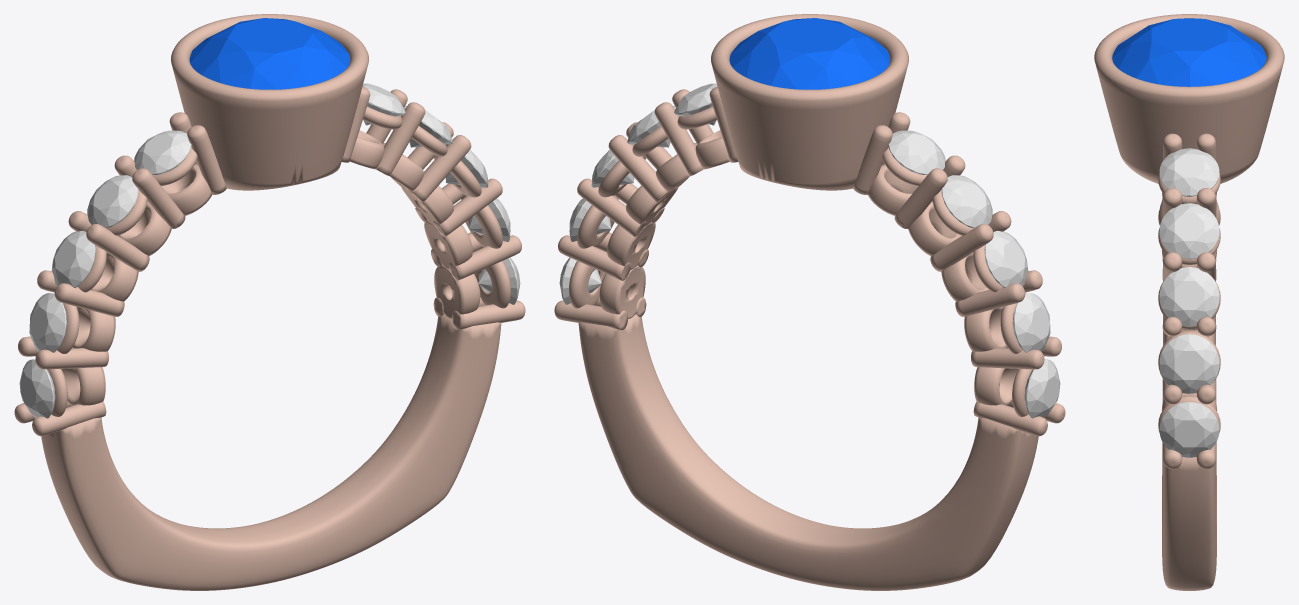
Rendered from bluesapphire-round-rosegold-bezelset-europeanshank-5stone.glb.
3 views of the same model, side by side, from view 1: azimuth 30°, elevation 25°; view 2: azimuth 150°, elevation 25°; view 3: azimuth 270°, elevation 25° (orthographic). The views are drawn at different scales.
Parts seen in each view (by area): view 1: metal, stone, side.006, side.007, side.005, side.008, side.009, side, side.001, side.004, side.003; view 2: metal, stone, side.006, side.007, side.005, side.008, side.009, side, side.001, side.004, side.003; view 3: metal, stone, side.003, side.002, side.001, side.004, side.
Part boxes in pixels (x1=…): metal: x1=14, y1=14, x2=525, y2=590; stone: x1=189, y1=18, x2=350, y2=89; side.006: x1=87, y1=175, x2=138, y2=227; side.007: x1=51, y1=230, x2=95, y2=287; side.005: x1=134, y1=130, x2=191, y2=174; side.008: x1=29, y1=293, x2=67, y2=352; side.009: x1=19, y1=359, x2=55, y2=418; side: x1=362, y1=83, x2=405, y2=125; side.001: x1=403, y1=106, x2=452, y2=147; side.004: x1=478, y1=257, x2=520, y2=304; side.003: x1=469, y1=198, x2=510, y2=241; metal: x1=554, y1=14, x2=1065, y2=590; stone: x1=729, y1=18, x2=890, y2=89; side.006: x1=941, y1=175, x2=992, y2=227; side.007: x1=984, y1=230, x2=1028, y2=287; side.005: x1=888, y1=130, x2=945, y2=174; side.008: x1=1012, y1=293, x2=1050, y2=352; side.009: x1=1024, y1=359, x2=1060, y2=418; side: x1=674, y1=83, x2=717, y2=125; side.001: x1=627, y1=106, x2=676, y2=147; side.004: x1=559, y1=257, x2=601, y2=304; side.003: x1=569, y1=198, x2=610, y2=241; metal: x1=1094, y1=14, x2=1284, y2=590; stone: x1=1112, y1=18, x2=1266, y2=86; side.003: x1=1159, y1=334, x2=1219, y2=393; side.002: x1=1159, y1=267, x2=1219, y2=326; side.001: x1=1159, y1=203, x2=1219, y2=259; side.004: x1=1159, y1=402, x2=1219, y2=457; side: x1=1159, y1=148, x2=1219, y2=196.
Size of the model in its own units: 22.63 by 23.81 by 7.94.
